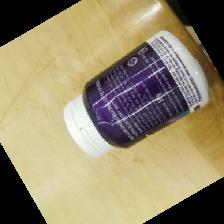Xylitol_BTS: (61, 28, 208, 160)
